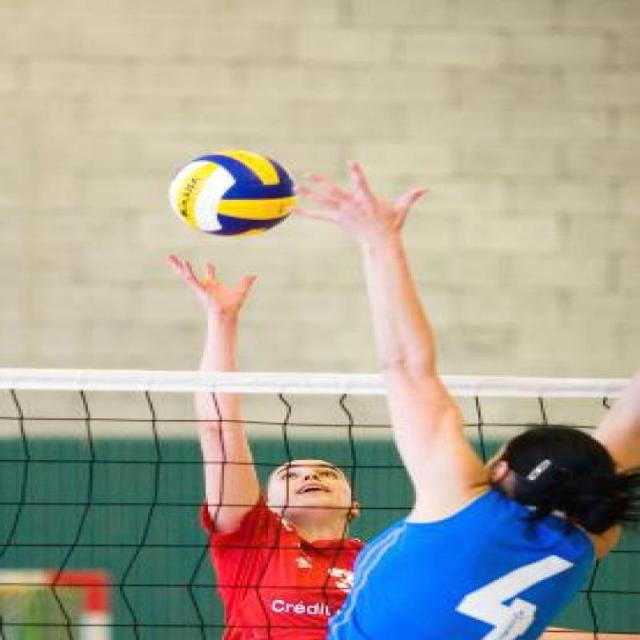volleyball: (168, 148, 298, 237)
